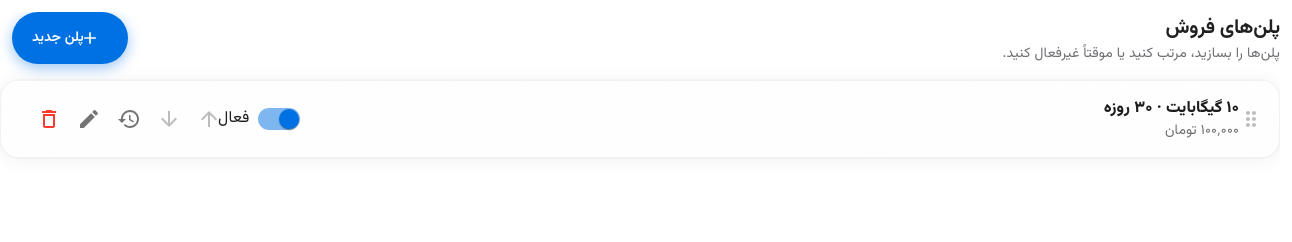
storefront Release B administration › does not offer blind reapply for non-version 409 outcomes
Click the checkbox labelled "فعال". click: (263, 119)
box: [218,100,308,138]
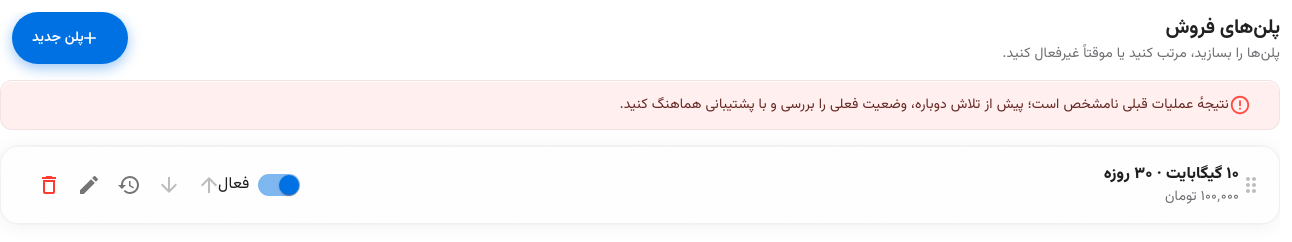
Expected: the text "نتیجهٔ عملیات قبلی نامشخص است" is shown, [620,94,1229,116]
